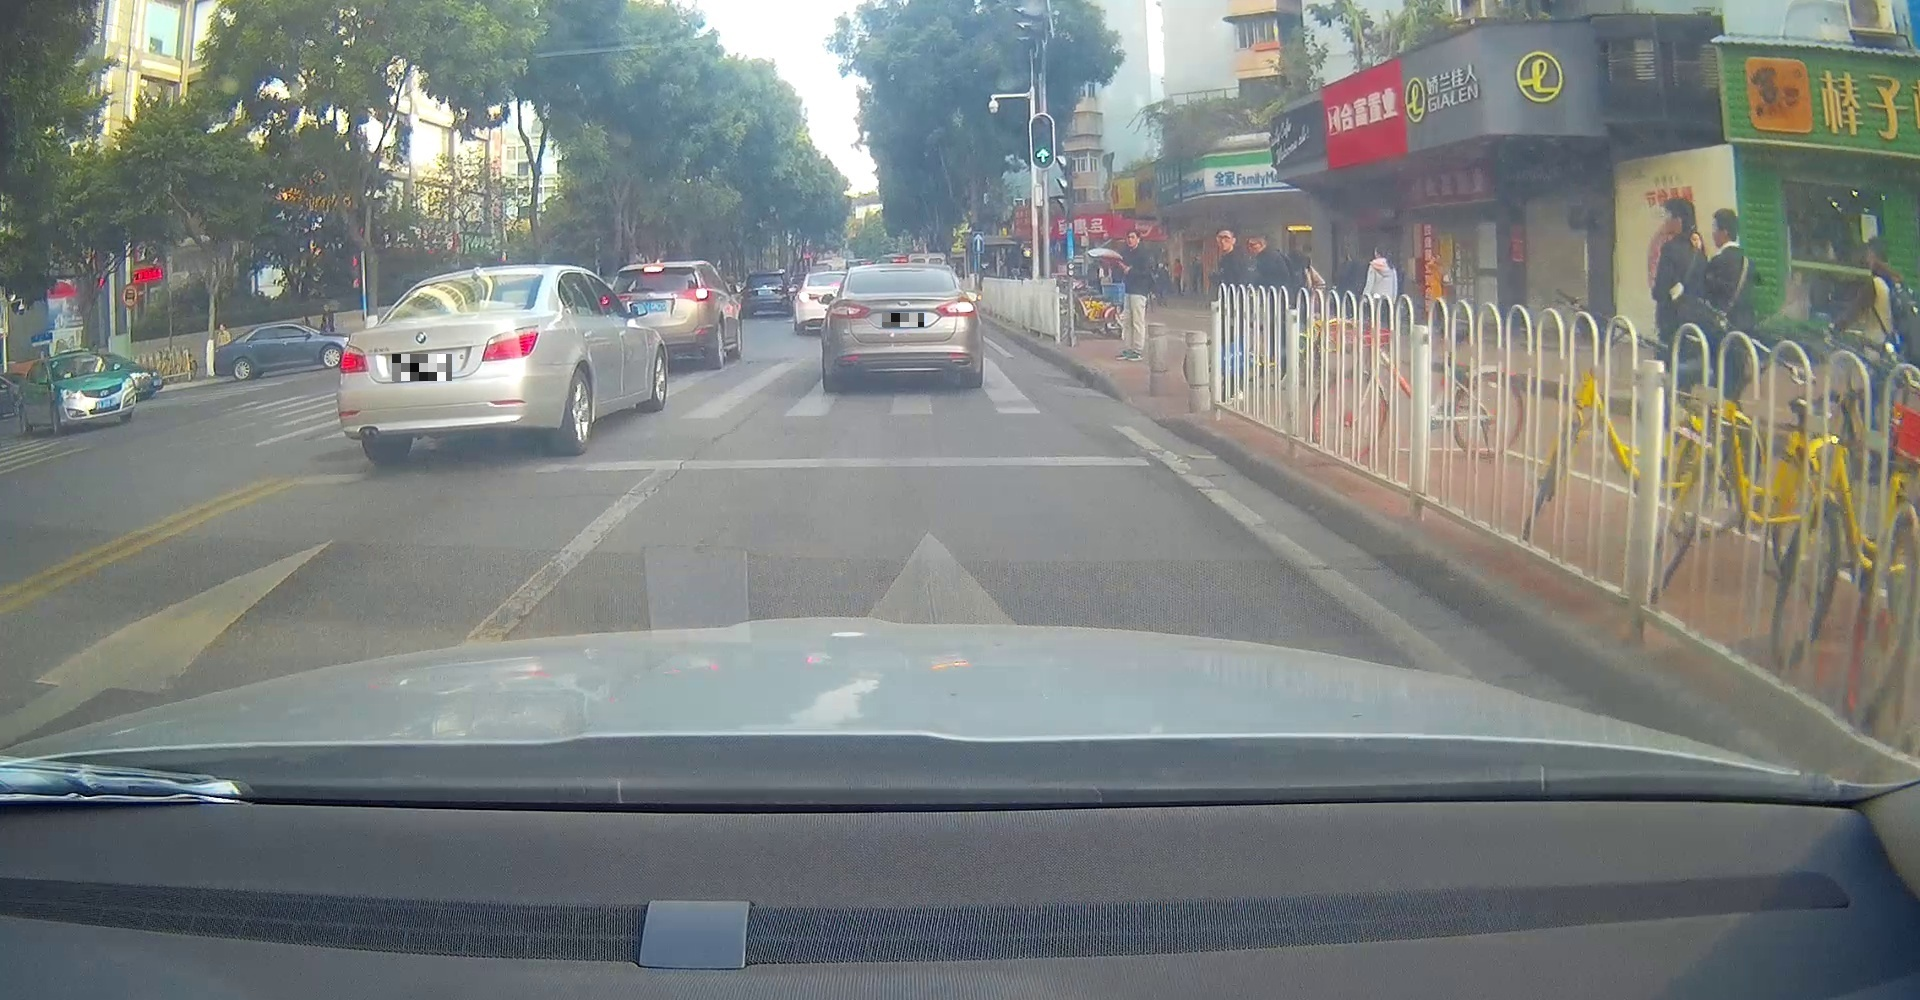L_light: (338, 344, 370, 373), (829, 303, 871, 319)
R_light: (481, 324, 538, 362), (935, 298, 975, 316)
T_light: (458, 275, 497, 284), (888, 269, 913, 274)
day-no: (337, 265, 545, 464), (829, 264, 977, 393)
plate_1: (392, 354, 452, 381)
plate_2: (883, 313, 924, 327)
